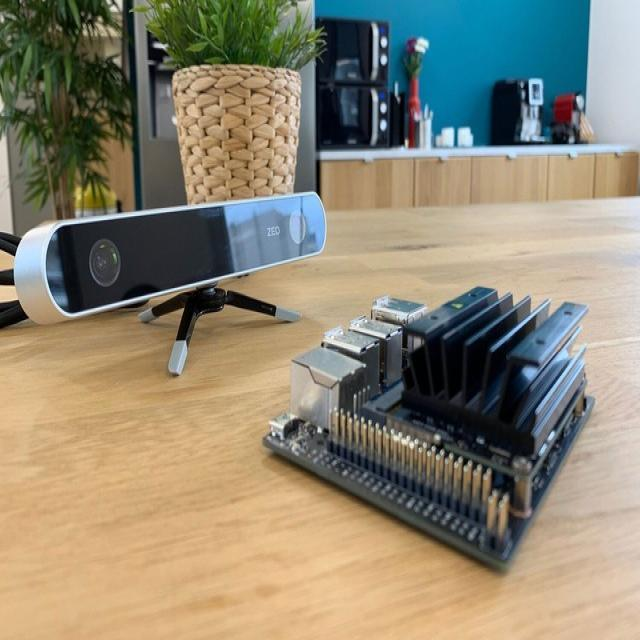Jetson Nano: (263, 286, 595, 570)
